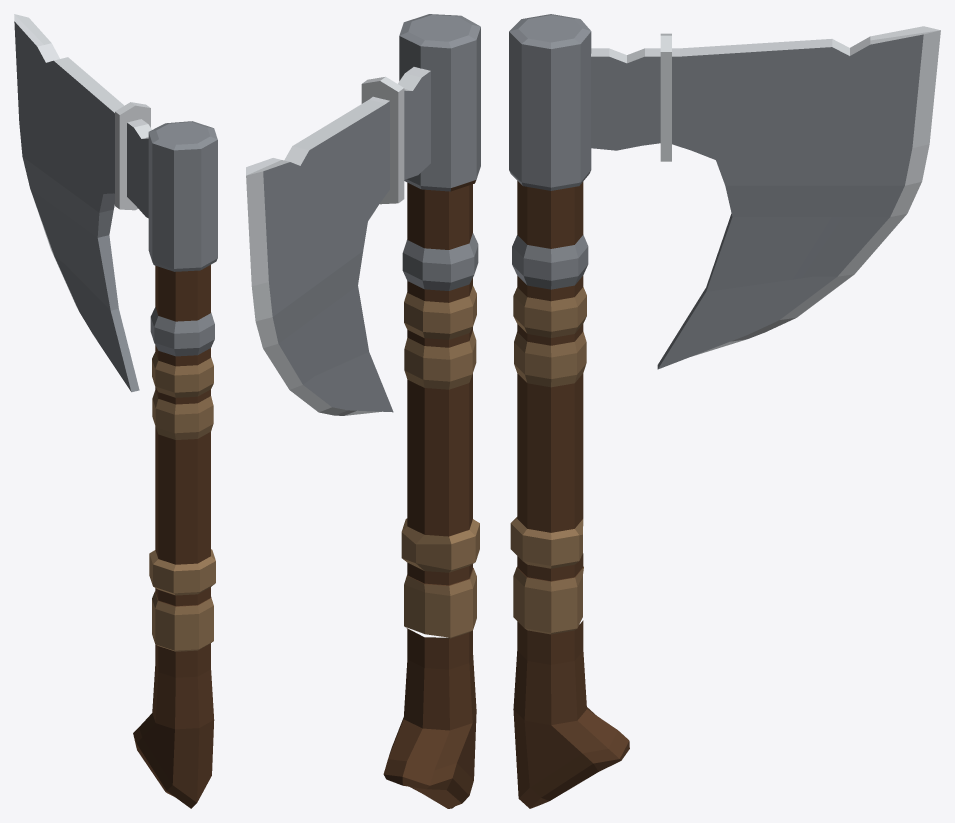
Rendered from Battle Axe.glb.
3 views of the same model, side by side, from view 1: azimuth 30°, elevation 25°; view 2: azimuth 150°, elevation 25°; view 3: azimuth 270°, elevation 25° (orthographic). The views are drawn at different scales.
Parts seen in each view (by area): view 1: Cube.001; view 2: Cube.001; view 3: Cube.001.
Boxes of the visible parts, x1,y1,x2,y2 form: Cube.001: (14,14,217,808); Cube.001: (246,14,480,808); Cube.001: (509,14,940,808).
Size of the model in its own units: 0.2227 by 2.3 by 1.16.
